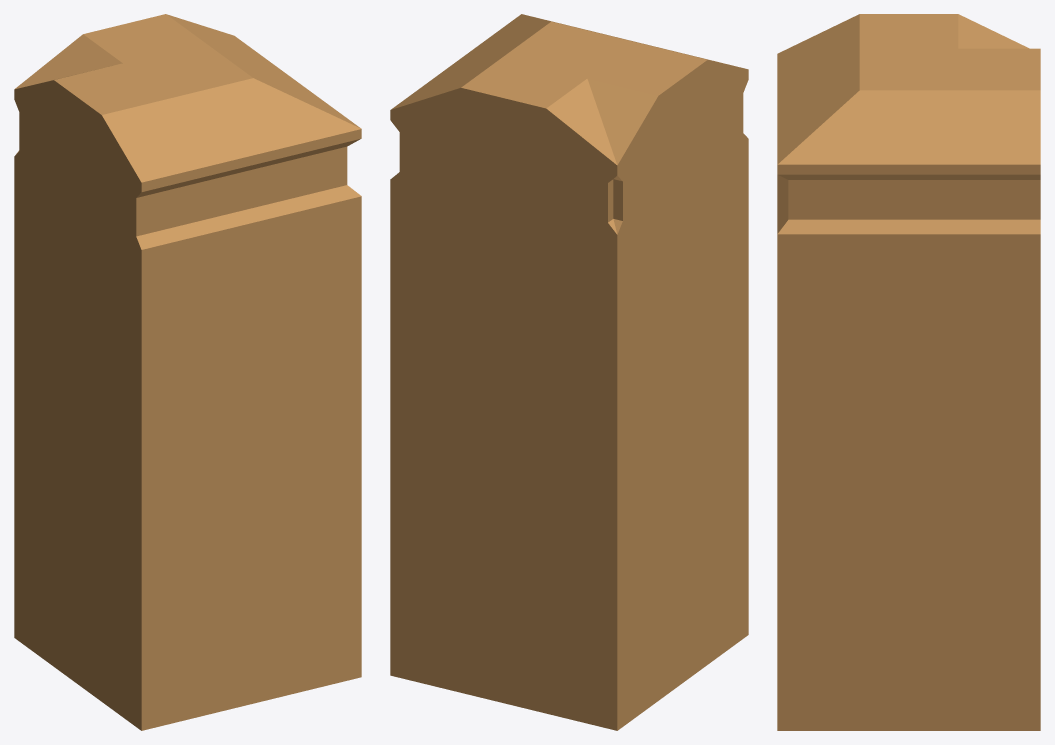
The model's file is india_wall-hindu-edge.fbx.
3 views of the same model, side by side, from view 1: azimuth 30°, elevation 25°; view 2: azimuth 150°, elevation 25°; view 3: azimuth 270°, elevation 25° (orthographic). The views are drawn at different scales.
Visible parts, largest first — view 1: india_wall_hindu_edge; view 2: india_wall_hindu_edge; view 3: india_wall_hindu_edge.
Part boxes in pixels (left/top/right/bottom): india_wall_hindu_edge: left=14, top=14, right=361, bottom=730; india_wall_hindu_edge: left=390, top=14, right=748, bottom=730; india_wall_hindu_edge: left=777, top=14, right=1040, bottom=730.
Bounding box in the file's own units: 78.58 × 200 × 78.69.
